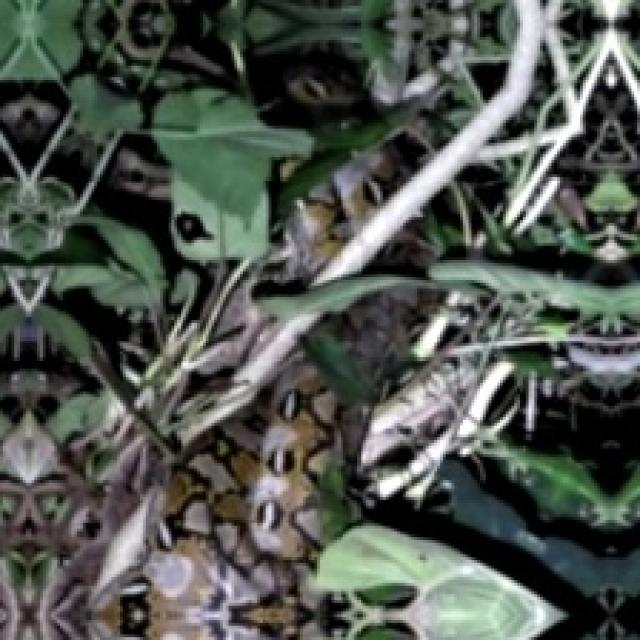reticulated python: (89, 109, 443, 640)
